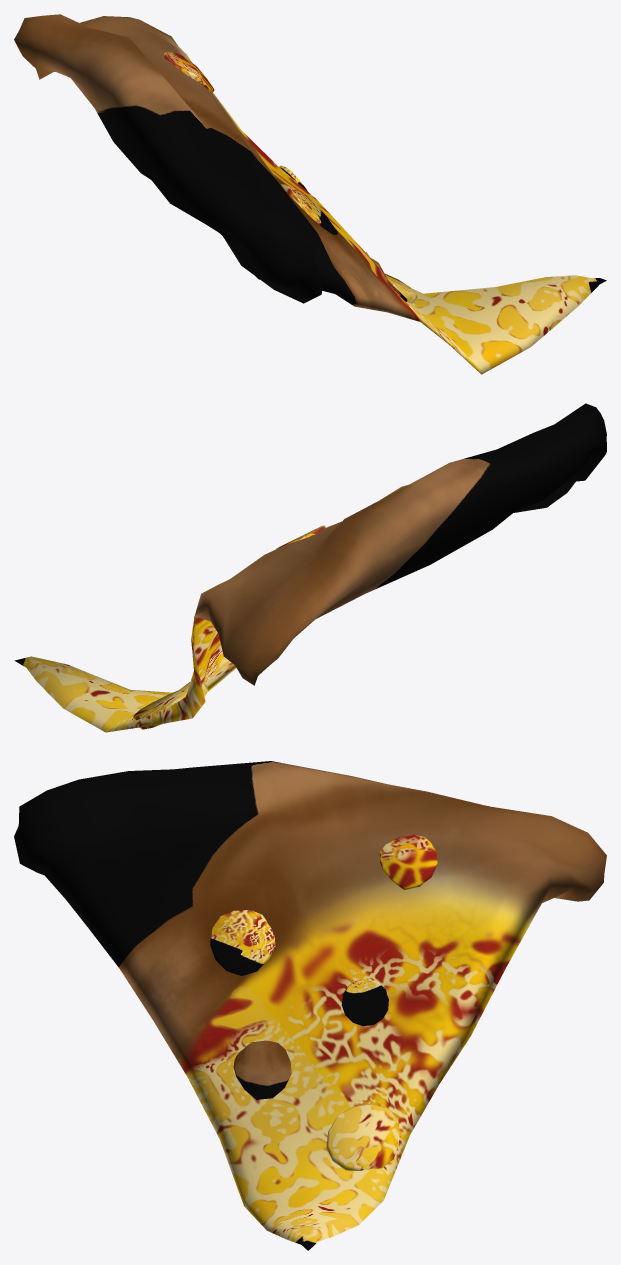
Rendered from pizza.fbx.
The picture shows the model from 3 angles, top to bottom: view 1: azimuth 30°, elevation 25°; view 2: azimuth 150°, elevation 25°; view 3: azimuth 270°, elevation 25°; orthographic projection. The views are drawn at different scales.
Parts seen in each view (by area): view 1: Group50116; view 2: Group50116; view 3: Group50116.
Boxes of the visible parts, x1,y1,x2,y2 form: Group50116: [14, 14, 606, 374]; Group50116: [14, 403, 606, 732]; Group50116: [14, 761, 606, 1250].
Bounding box in the file's own units: 104 × 66.24 × 116.
